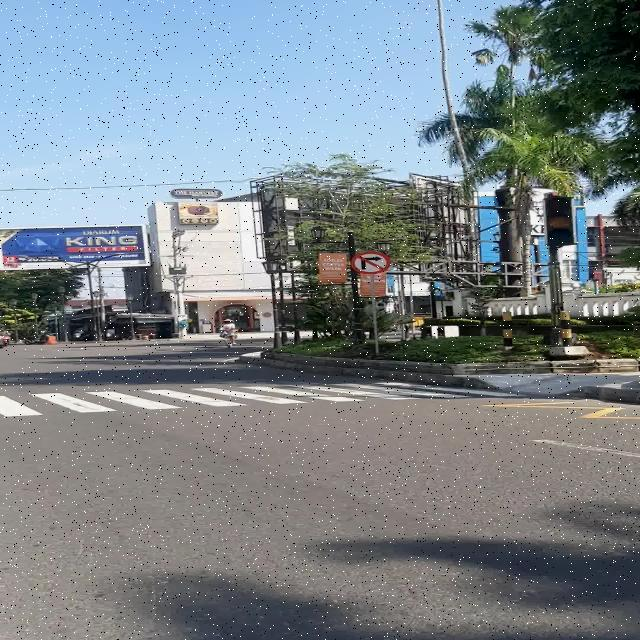Dilarang Belok Kanan: (350, 252, 390, 274)
